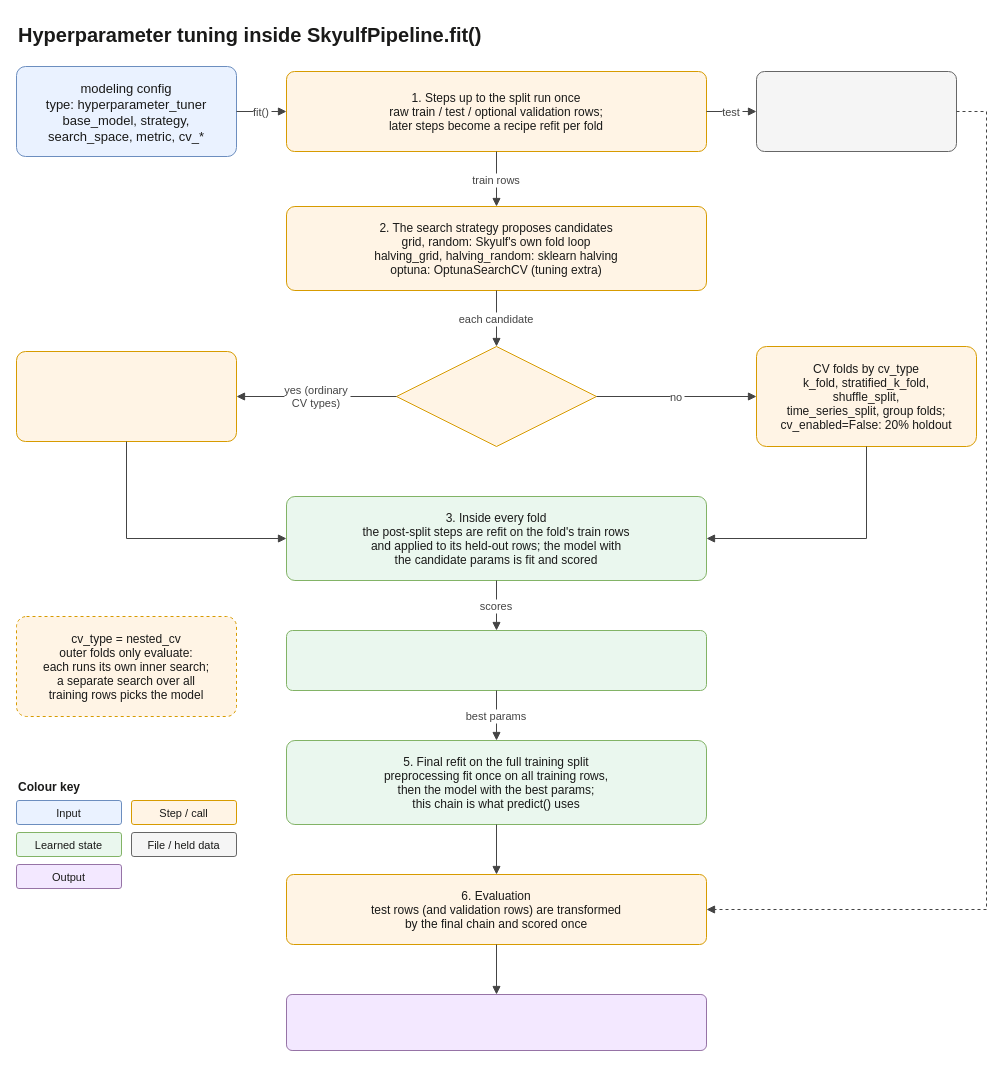
Some shapes in this 1003 by 1067 pixel diagram are drawn without their labels. Here are the shapes that lost their labels. From the top down, the box of each, then its label:
(756, 70, 956, 152): Test rows kept aside; never used to pick parameters
(16, 350, 236, 442): Holdout scoring fit on the train rows, score on the validation rows
(396, 346, 596, 446): Validation split present?
(286, 630, 706, 690): 4. Best params the candidate with the best score (TuningResult)
(286, 994, 706, 1050): Metrics per split + tuning result (best params, best score, every trial)
